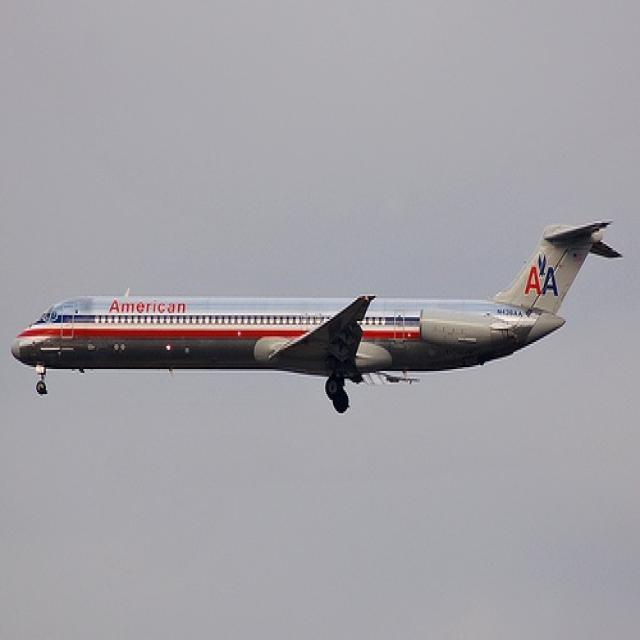aeroplane: (10, 217, 622, 411)
